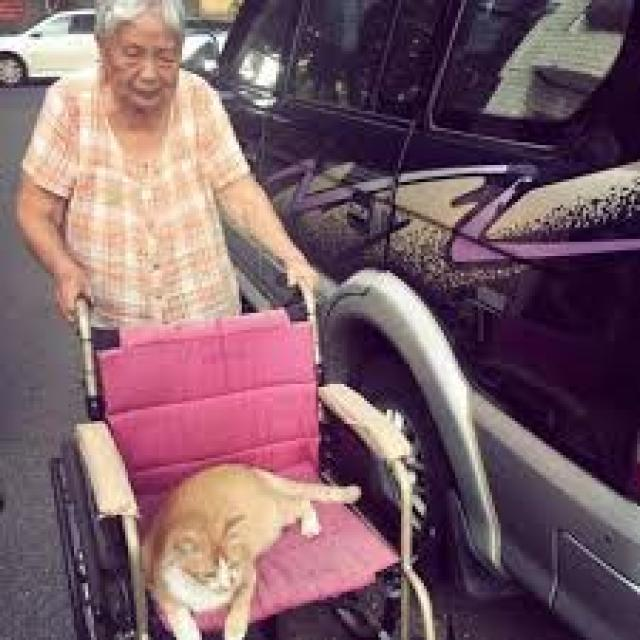wheelchairs: (51, 233, 452, 637)
